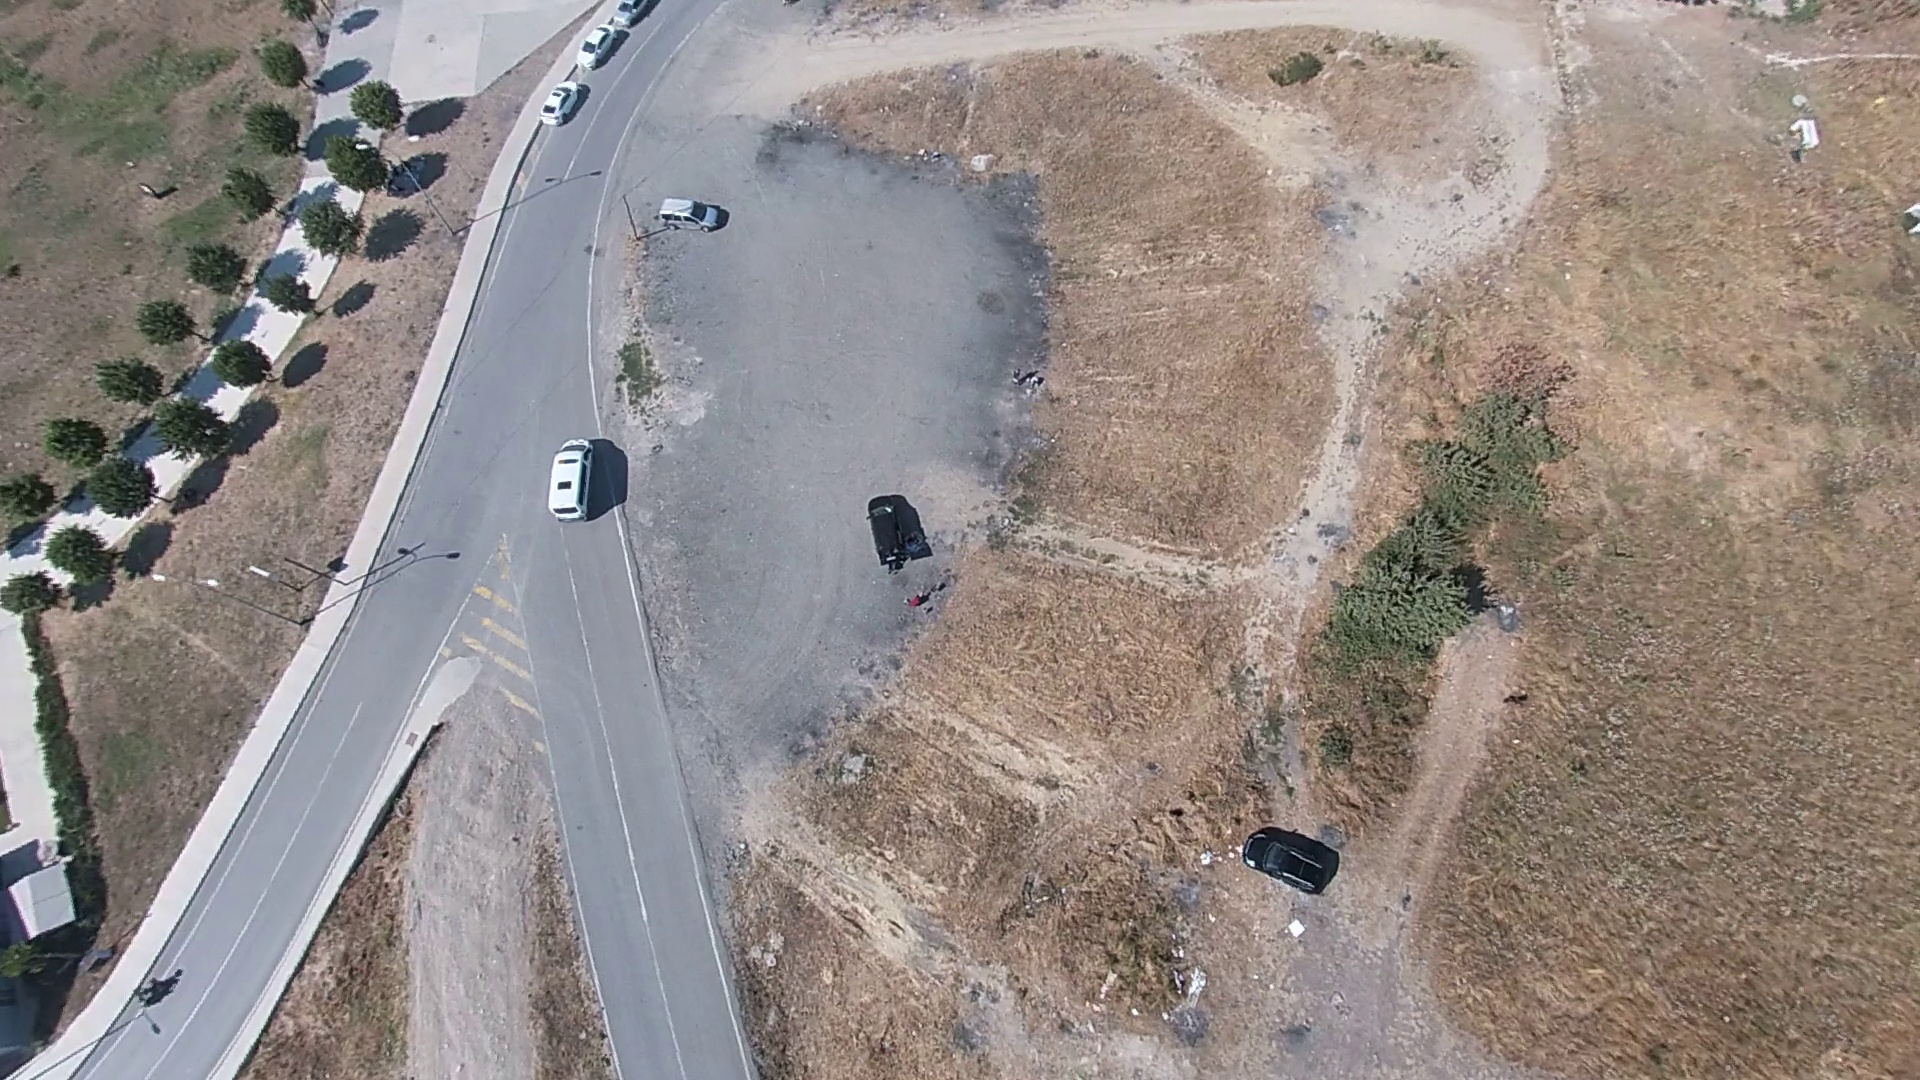arac: (1242, 829, 1337, 897), (868, 491, 938, 574), (546, 433, 599, 520), (578, 20, 625, 69), (658, 195, 727, 228), (539, 74, 584, 124)
